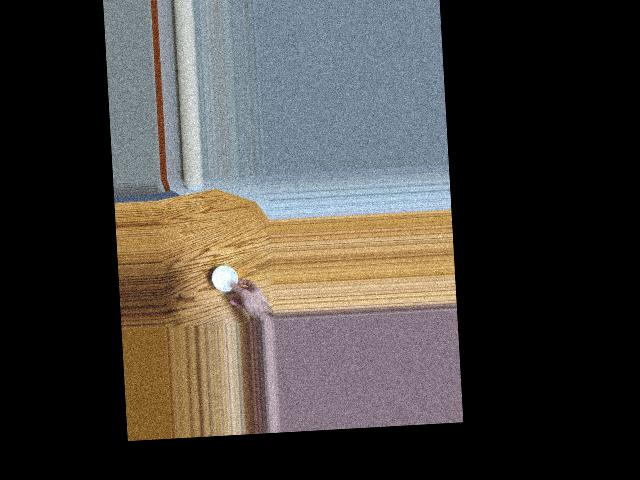cotage: (212, 264, 242, 294)
